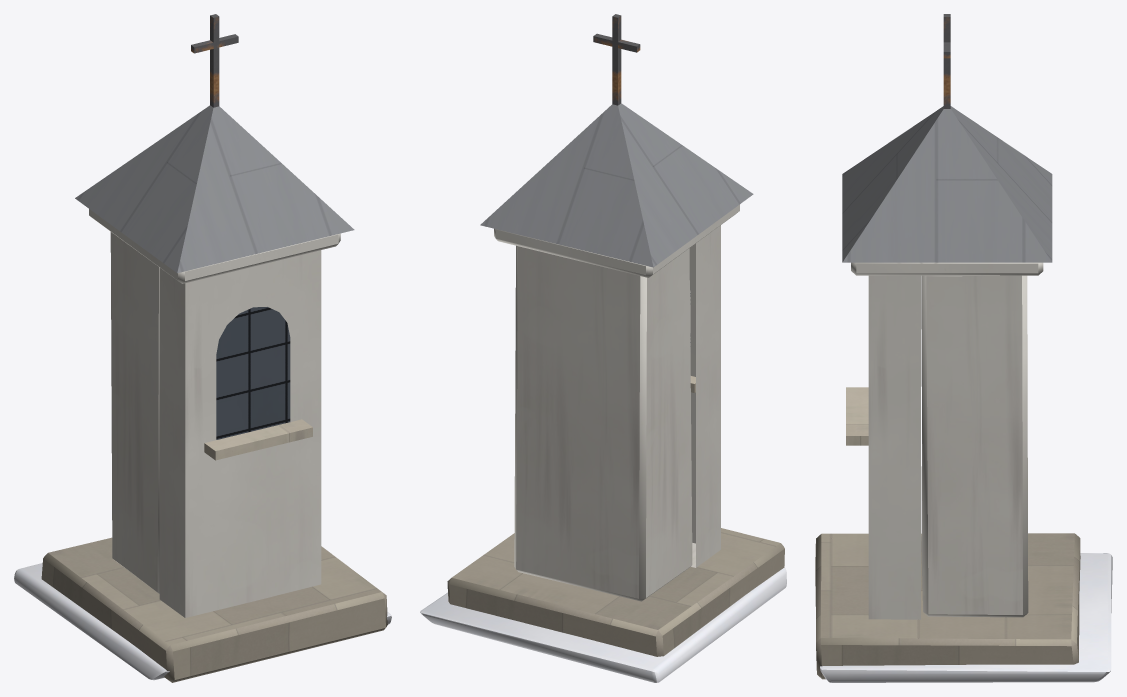
File: farm_shrine.glb
The picture shows the model from 3 angles, left to right: view 1: azimuth 30°, elevation 25°; view 2: azimuth 150°, elevation 25°; view 3: azimuth 270°, elevation 25°; orthographic projection. The views are drawn at different scales.
Parts seen in each view (by area): view 1: farm_shrine; view 2: farm_shrine; view 3: farm_shrine.
Part boxes in pixels (<box>): farm_shrine: <box>14,14,391,682</box>; farm_shrine: <box>420,14,786,682</box>; farm_shrine: <box>815,14,1112,682</box>.
Size of what is drawn, in the model's own units: 1.66 by 3.85 by 1.7.
Materials: 10 (8 with a texture image).
